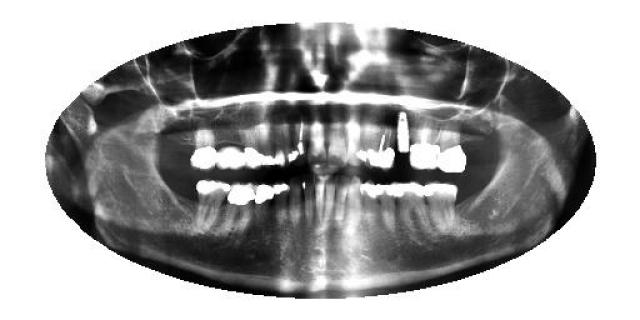Fillings: (391, 179, 429, 236), (194, 178, 231, 234), (426, 180, 459, 234), (225, 184, 254, 245), (438, 120, 468, 174), (189, 114, 216, 174), (360, 178, 380, 242), (254, 182, 274, 242), (376, 184, 399, 236), (242, 116, 262, 170), (346, 121, 366, 168), (257, 122, 275, 168), (215, 144, 244, 171), (275, 182, 291, 228)
Implant: (409, 120, 440, 170), (365, 125, 395, 171), (288, 115, 308, 171), (396, 111, 412, 152)
